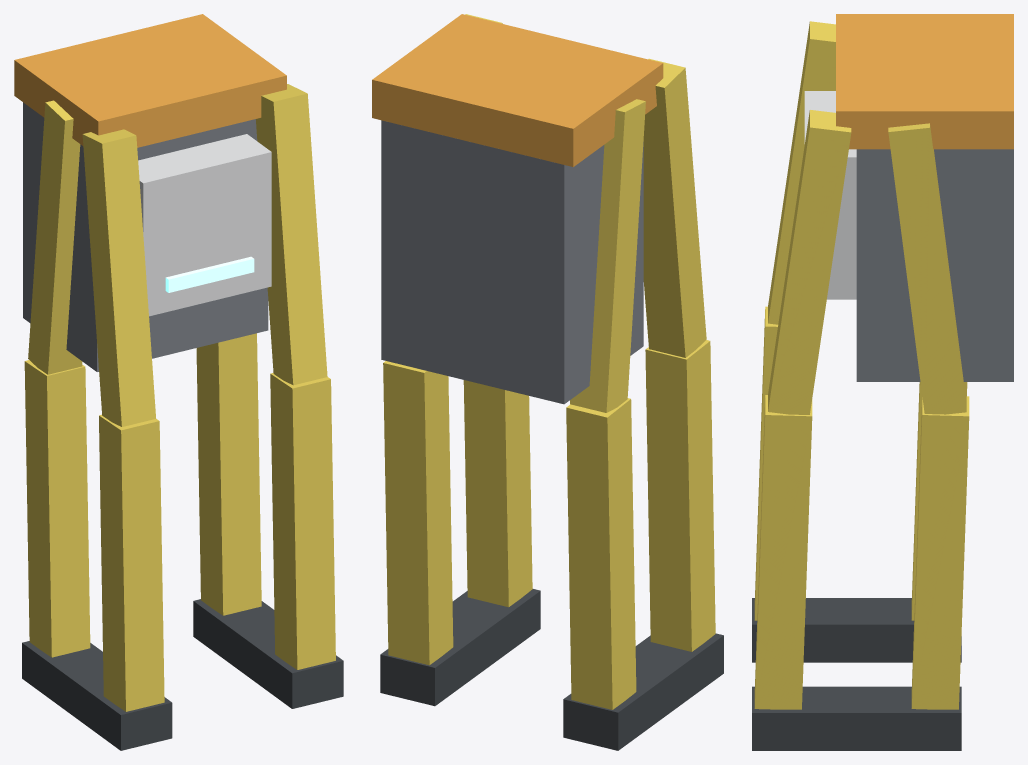
The model's file is exoskeleton-frame.glb.
The picture shows the model from 3 angles, left to right: view 1: azimuth 30°, elevation 25°; view 2: azimuth 150°, elevation 25°; view 3: azimuth 270°, elevation 25°; orthographic projection. The views are drawn at different scales.
Visible parts, largest first — view 1: exoskeleton-frame; view 2: exoskeleton-frame; view 3: exoskeleton-frame.
Boxes of the visible parts, x1=… form: exoskeleton-frame: x1=14, y1=14, x2=343, y2=750; exoskeleton-frame: x1=372, y1=14, x2=723, y2=750; exoskeleton-frame: x1=752, y1=14, x2=1013, y2=750.
Size of the model in its own units: 0.52 by 1.33 by 0.5.
